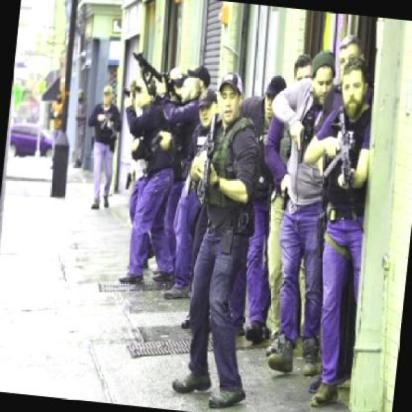Gun: (320, 111, 362, 186), (128, 48, 172, 88), (192, 146, 216, 206), (97, 106, 122, 135)
